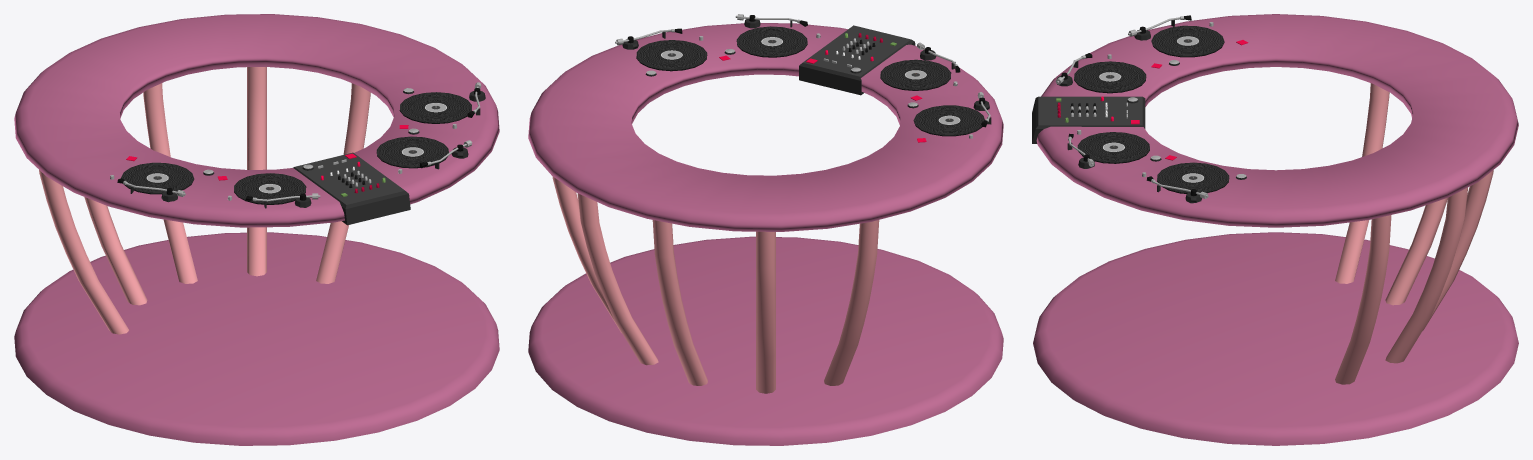
Rendered from dj_platform.glb.
3 views of the same model, side by side, from view 1: azimuth 30°, elevation 25°; view 2: azimuth 150°, elevation 25°; view 3: azimuth 270°, elevation 25° (orthographic). The views are drawn at different scales.
Visible parts, largest first — view 1: dj_stand; view 2: dj_stand; view 3: dj_stand.
Boxes of the visible parts, <box> form: dj_stand: <box>14,14,499,445</box>; dj_stand: <box>528,14,1003,445</box>; dj_stand: <box>1032,14,1518,445</box>.
Size of what is drawn, in the model's own units: 2.98 by 1.63 by 2.99.
3 materials, 3 textured.
